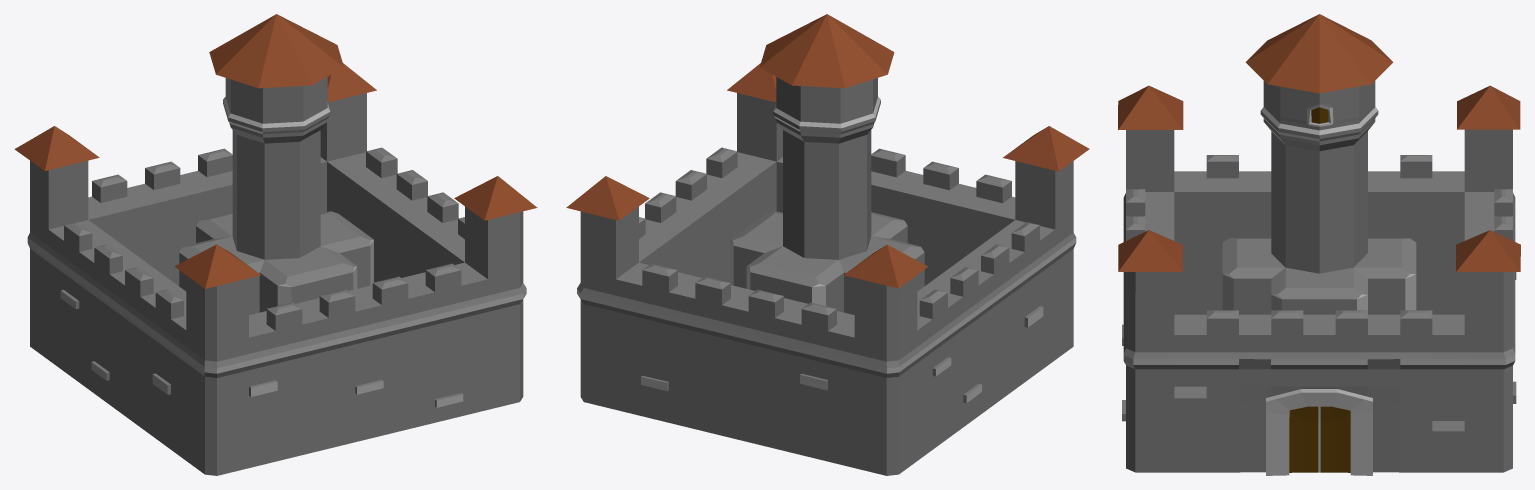
The model's file is EuroFort.fbx.
The picture shows the model from 3 angles, left to right: view 1: azimuth 30°, elevation 25°; view 2: azimuth 150°, elevation 25°; view 3: azimuth 270°, elevation 25°; orthographic projection. The views are drawn at different scales.
Parts seen in each view (by area): view 1: EuroFort; view 2: EuroFort; view 3: EuroFort.
Boxes of the visible parts, left/top/right/bottom form: EuroFort: left=14, top=14, right=537, bottom=475; EuroFort: left=566, top=14, right=1089, bottom=475; EuroFort: left=1118, top=14, right=1520, bottom=475.
Bounding box in the file's own units: 419 × 430 × 417.
